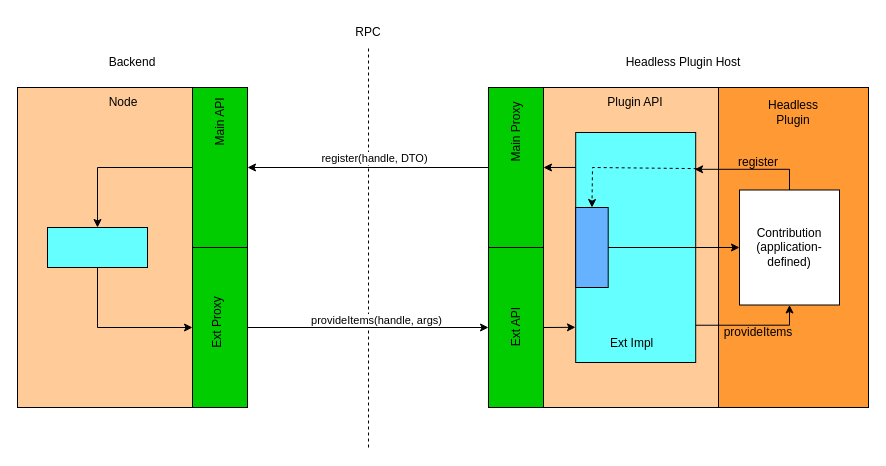
Image size: 886x466. Some labels were removed from this diagram. The shapes that lost their labels are listed below. From the top down, each one's box as (x1, y1, x2, y2) in pixels, then its label:
(46, 226, 148, 268): Main Impl
(575, 206, 608, 288): Registry
